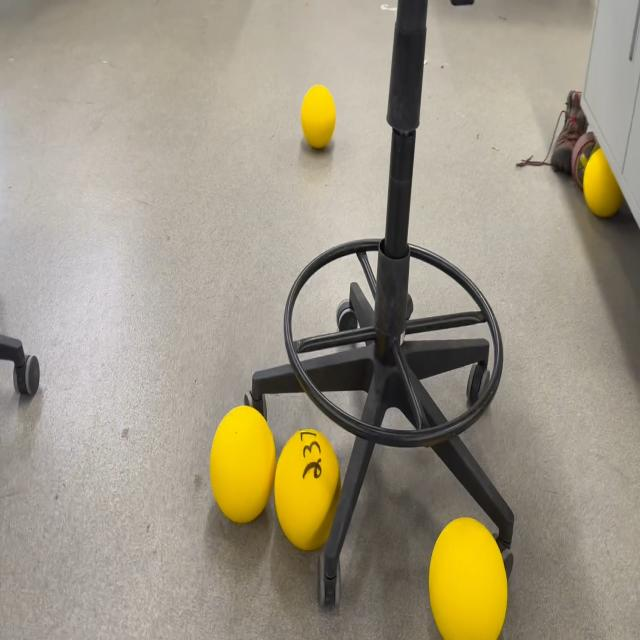Fuel: (428, 516, 508, 640), (274, 428, 342, 551), (210, 405, 276, 524), (583, 146, 625, 218), (301, 84, 336, 149)
